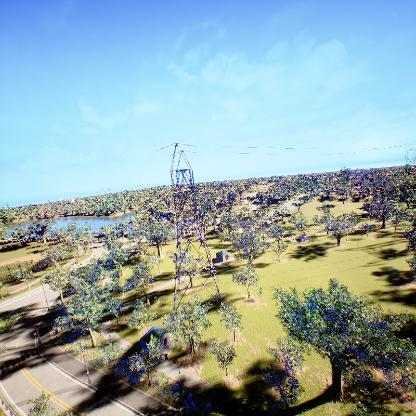tower: (156, 136, 232, 321)
